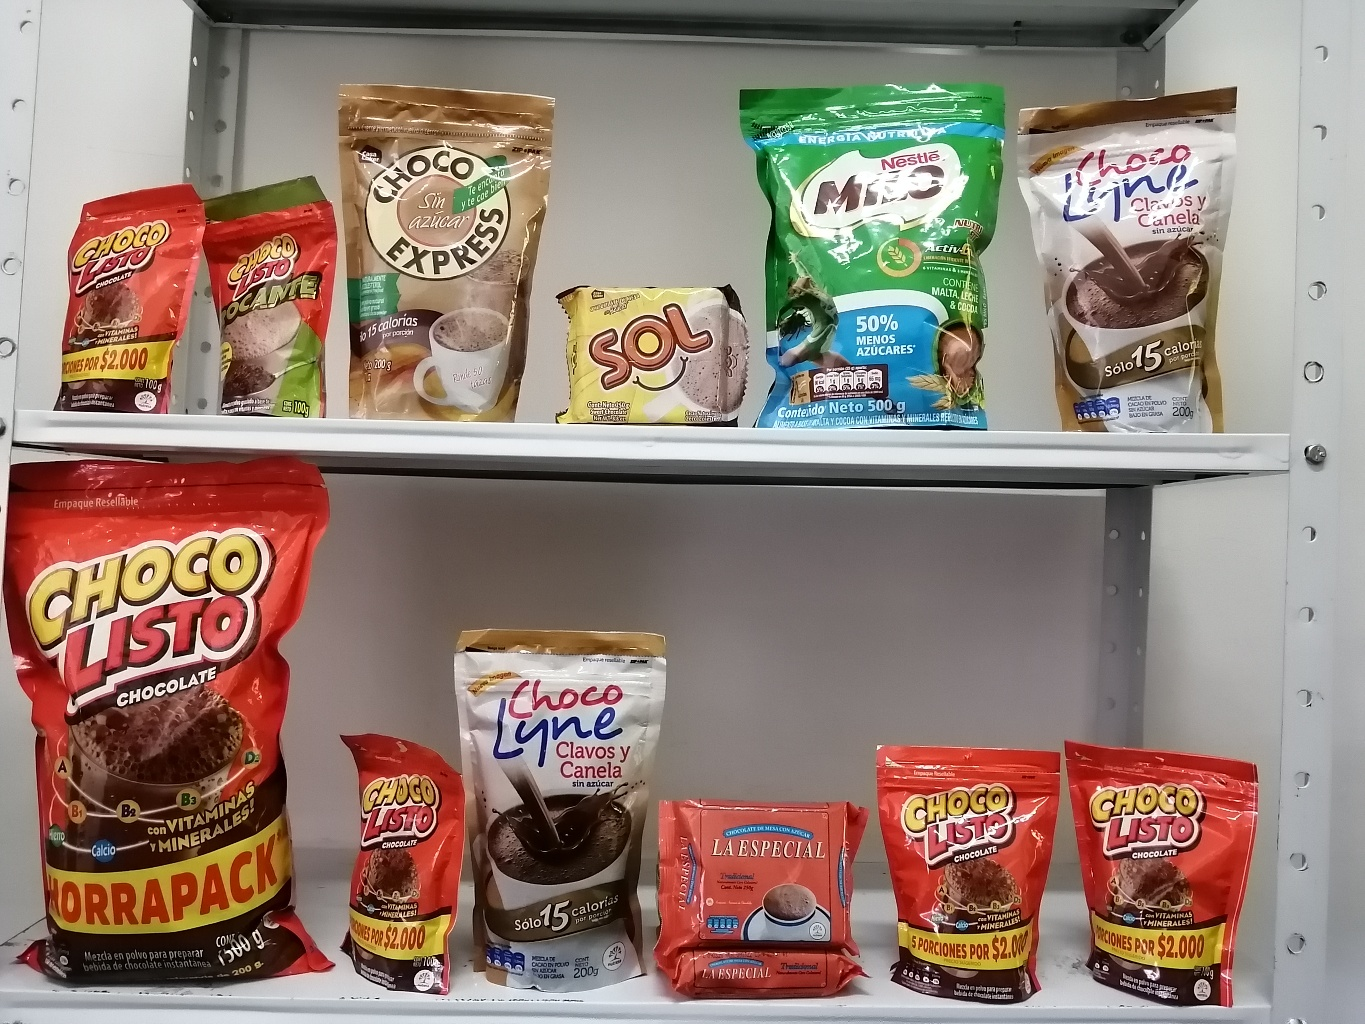COL0170102DYP10000: (194, 182, 335, 418)
COL0170103DYP1,500: (0, 457, 335, 990)
COL0170205DYP50000: (740, 83, 1011, 433)
